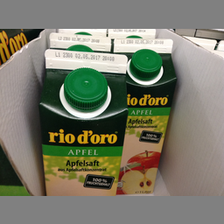juice: (39, 48, 129, 195), (112, 39, 178, 194)
